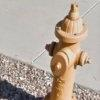Hydrant: (38, 6, 93, 100)
